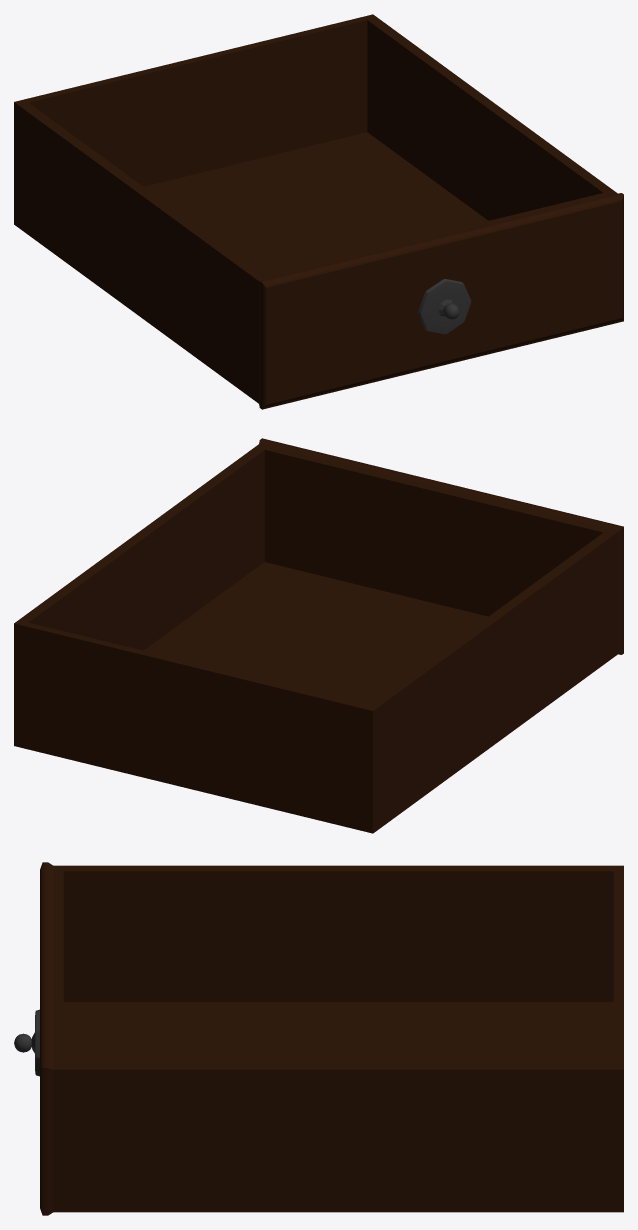
The model's file is cabinet_drawer.FBX.
The picture shows the model from 3 angles, top to bottom: view 1: azimuth 30°, elevation 25°; view 2: azimuth 150°, elevation 25°; view 3: azimuth 270°, elevation 25°; orthographic projection. The views are drawn at different scales.
Parts seen in each view (by area): view 1: cabinet_drawer; view 2: cabinet_drawer; view 3: cabinet_drawer.
Part boxes in pixels (box(x1,y1,x2,y2)): cabinet_drawer: box(14, 14, 623, 409); cabinet_drawer: box(14, 438, 623, 833); cabinet_drawer: box(14, 862, 623, 1215).
Size of the model in its own units: 32.74 by 10.97 by 41.04.
